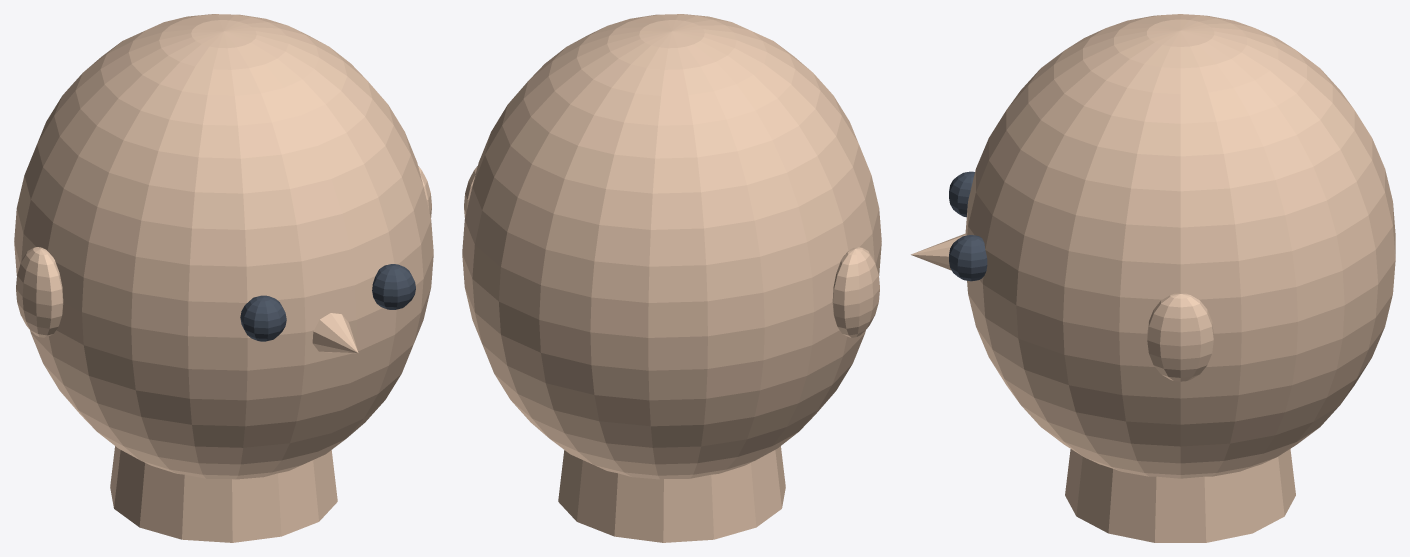
File: char_head.glb
3 views of the same model, side by side, from view 1: azimuth 30°, elevation 25°; view 2: azimuth 150°, elevation 25°; view 3: azimuth 270°, elevation 25° (orthographic).
Visible parts, largest first — view 1: char_head; view 2: char_head; view 3: char_head.
Part boxes in pixels (<box>): char_head: <box>14,14,433,542</box>; char_head: <box>462,14,881,542</box>; char_head: <box>911,14,1395,542</box>.
Bounding box in the file's own units: 0.2989 × 0.3284 × 0.3107.
